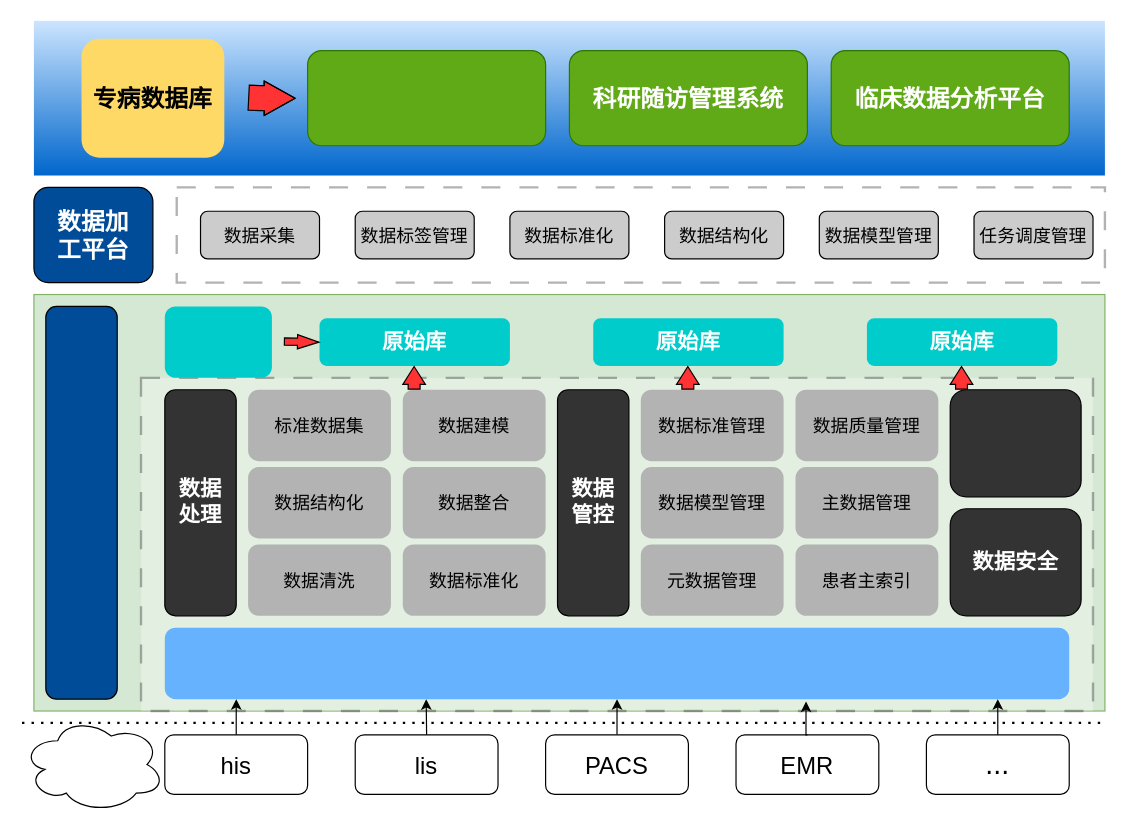
Image size: 1127x833. Some labels were removed from this diagram. The centre of each missing label's shape, as x and y in pixels:
"大 数 据 治 理 平 台" goes at point 81,502.
"数据 资源" goes at point 217,341.
"数据服务" goes at point 1015,443.
"数据源" goes at point 93,764.
"科研大数据搜索系统" goes at point 426,97.
"院内数据采集" goes at point 616,663.
